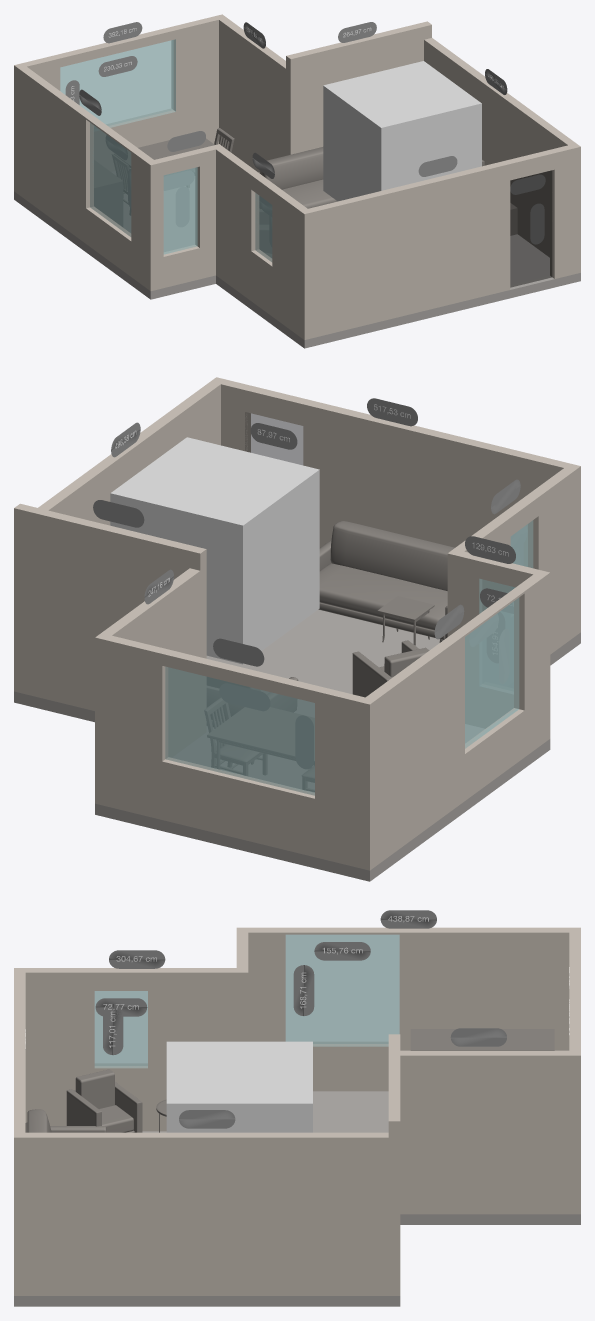
3 views of the same model, one above another, from view 1: azimuth 30°, elevation 25°; view 2: azimuth 150°, elevation 25°; view 3: azimuth 270°, elevation 25° (orthographic). The views are drawn at different scales.
Parts seen in each view (by area): view 1: Geom, Cube; view 2: Geom, Cube; view 3: Geom, Cube.
Boxes of the visible parts, x1,y1,x2,y2 form: Geom: (14,14,580,348); Cube: (323,61,481,201); Geom: (14,377,580,881); Cube: (110,437,319,664); Geom: (14,910,580,1306); Cube: (166,1041,312,1132).
Bounding box in the file's own units: 6.79 × 3.14 × 7.76.
